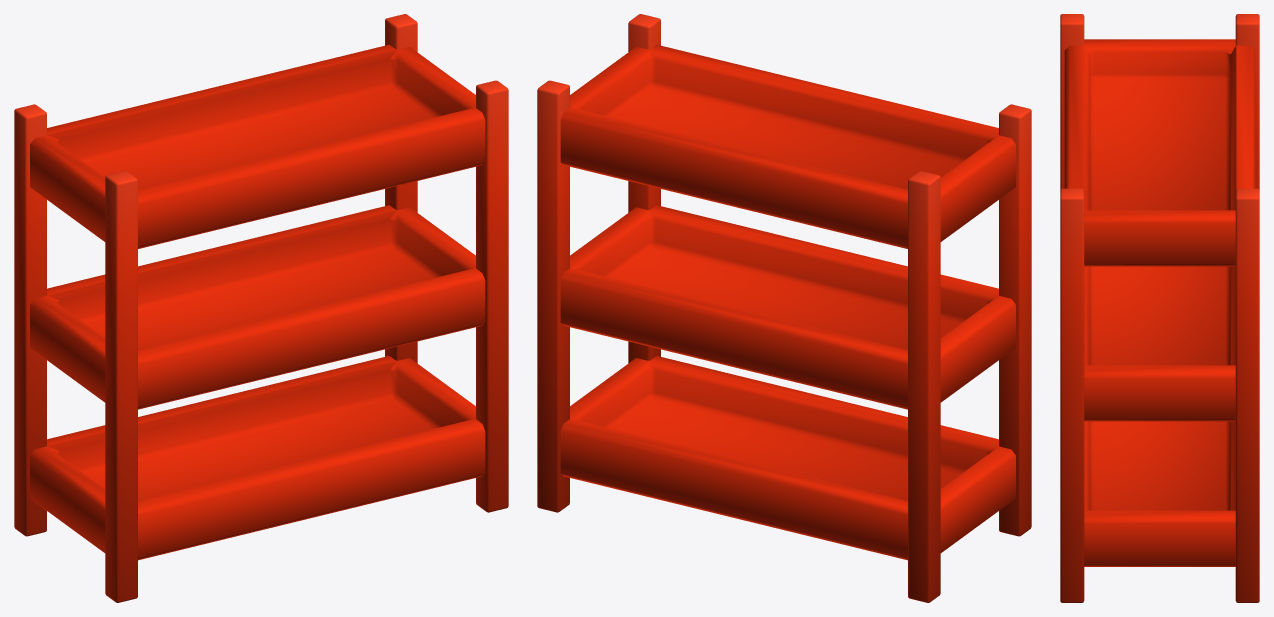
File: Kitchen_Rack_01_C04.fbx
The picture shows the model from 3 angles, left to right: view 1: azimuth 30°, elevation 25°; view 2: azimuth 150°, elevation 25°; view 3: azimuth 270°, elevation 25°; orthographic projection. The views are drawn at different scales.
Parts seen in each view (by area): view 1: Kitchen_Rack_01_C04; view 2: Kitchen_Rack_01_C04; view 3: Kitchen_Rack_01_C04.
Boxes of the visible parts, x1,y1,x2,y2 form: Kitchen_Rack_01_C04: (14,14,508,602); Kitchen_Rack_01_C04: (537,14,1031,602); Kitchen_Rack_01_C04: (1060,14,1259,602).
Bounding box in the file's own units: 159 × 162 × 72.34.
